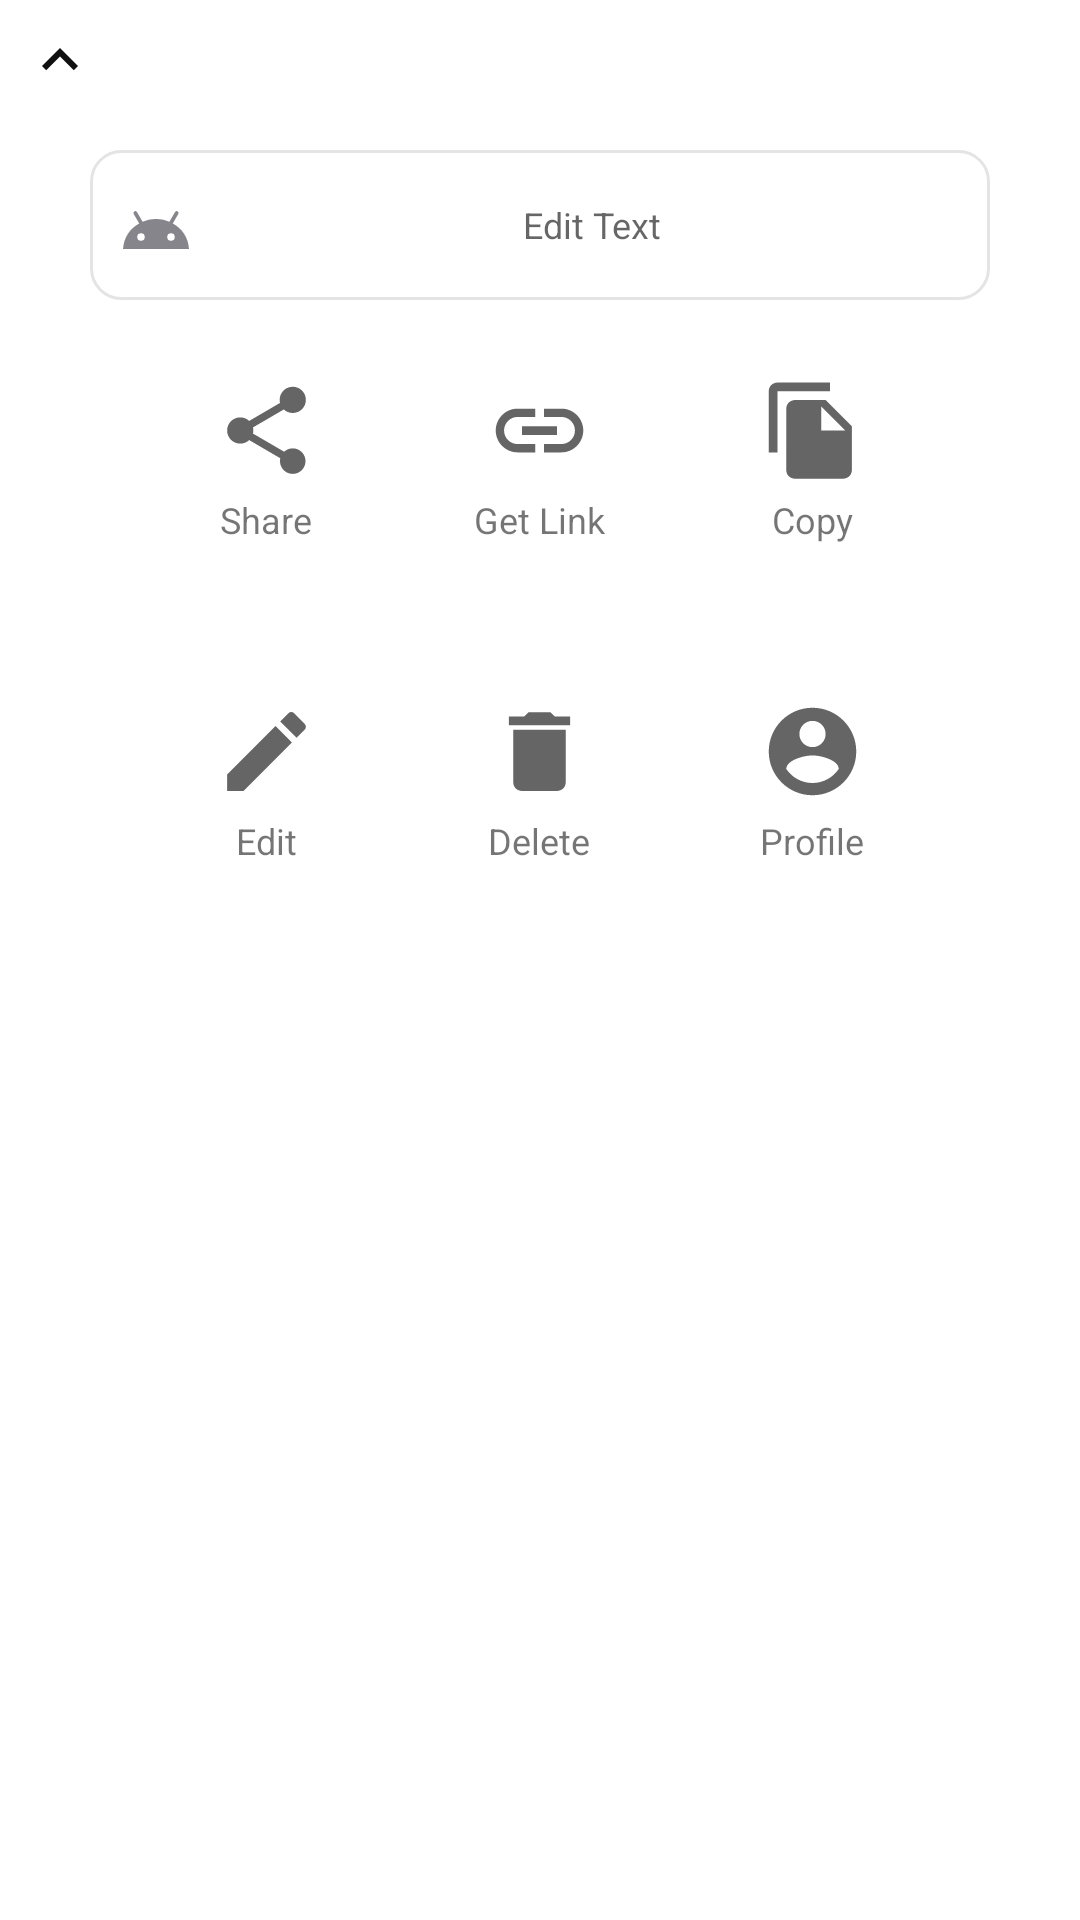

Icons on this 1080x1920 Android screen, each with its box as (x1, y1, x2, y2):
arrow up: (42, 48, 78, 70)
